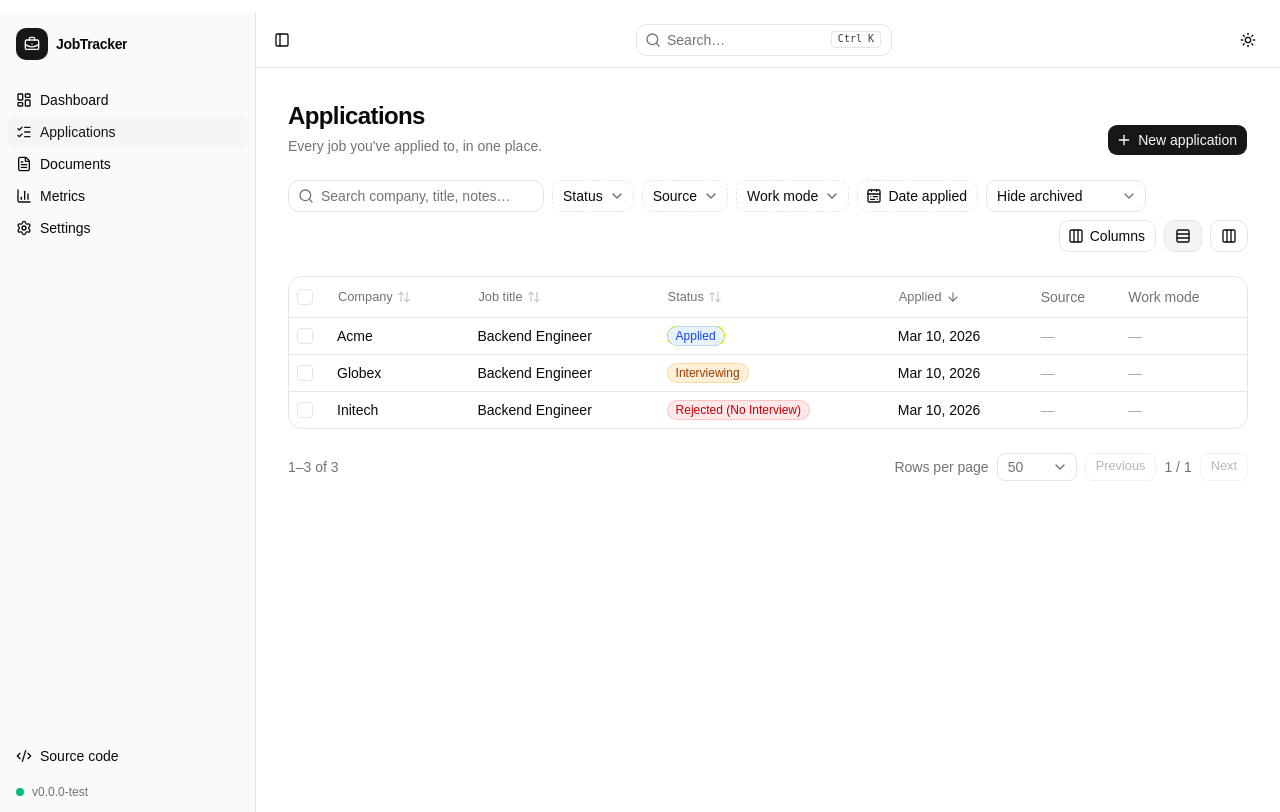
Test: Board view › the view choice is remembered
Click the radio button named "Board view" at (1229, 236), box [1210,220,1248,252]
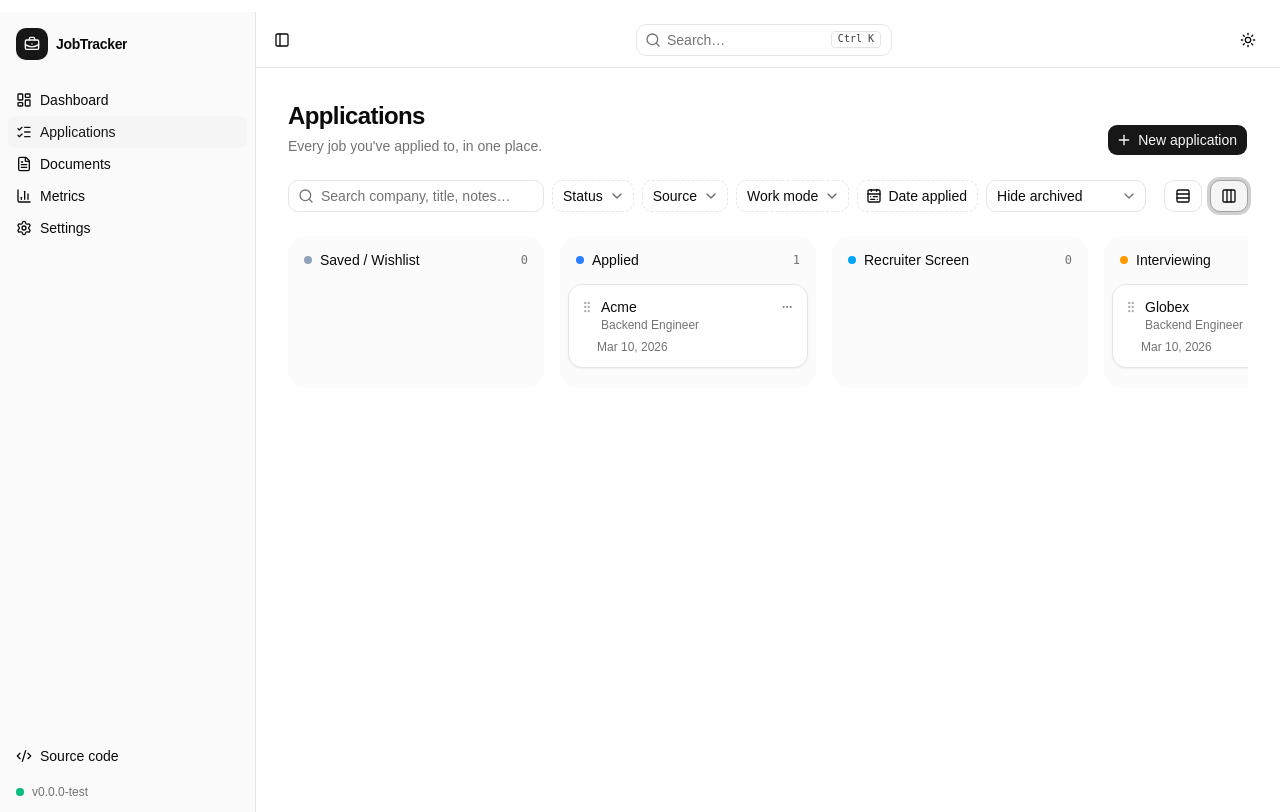
Expected: the element named "Application board" is shown, [288,236,1248,404]
